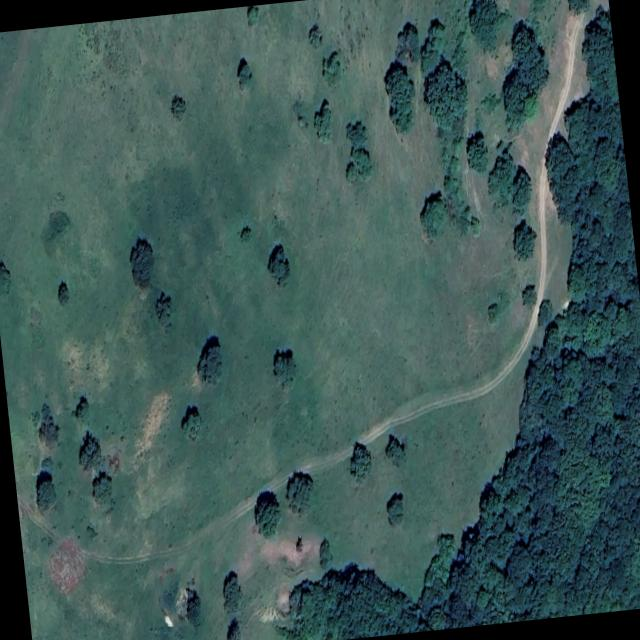grass: (0, 94, 455, 640), (138, 75, 567, 539), (78, 262, 367, 520), (300, 0, 519, 237), (0, 20, 160, 246), (490, 0, 604, 268), (170, 119, 276, 266), (137, 10, 322, 76), (139, 21, 237, 116), (254, 2, 324, 37), (0, 30, 22, 95), (315, 40, 334, 52)
tree: (298, 12, 640, 640), (502, 19, 548, 132), (424, 55, 466, 130), (384, 60, 414, 132), (468, 0, 503, 50), (442, 173, 471, 232), (420, 18, 444, 77), (129, 235, 154, 287), (285, 471, 313, 515), (254, 490, 280, 537), (196, 334, 221, 382), (420, 191, 445, 239), (394, 21, 419, 67), (488, 150, 514, 192), (272, 347, 295, 389), (512, 218, 535, 260), (345, 145, 371, 182), (512, 165, 531, 214), (267, 243, 289, 285), (350, 441, 371, 485), (466, 130, 487, 173), (78, 430, 101, 469), (38, 402, 58, 445), (35, 469, 55, 511), (180, 404, 201, 440), (222, 570, 240, 612), (314, 98, 331, 142), (321, 49, 341, 84), (88, 473, 113, 501), (384, 432, 405, 464), (185, 586, 200, 626), (154, 290, 171, 325), (386, 492, 403, 525), (236, 56, 251, 88), (170, 94, 185, 120), (72, 394, 88, 418), (308, 22, 322, 47), (0, 259, 10, 293), (226, 616, 240, 640), (57, 280, 69, 303), (568, 0, 589, 13), (246, 5, 258, 24), (238, 224, 251, 241)
